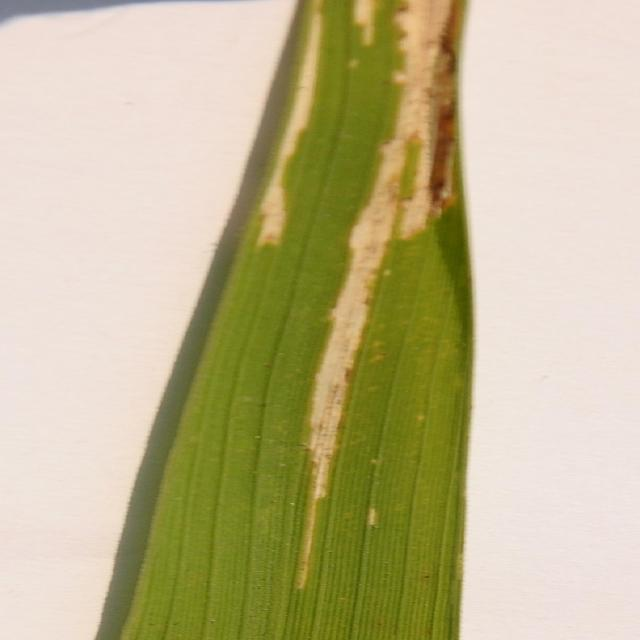Bacterial leaf blight: (119, 0, 477, 640)
